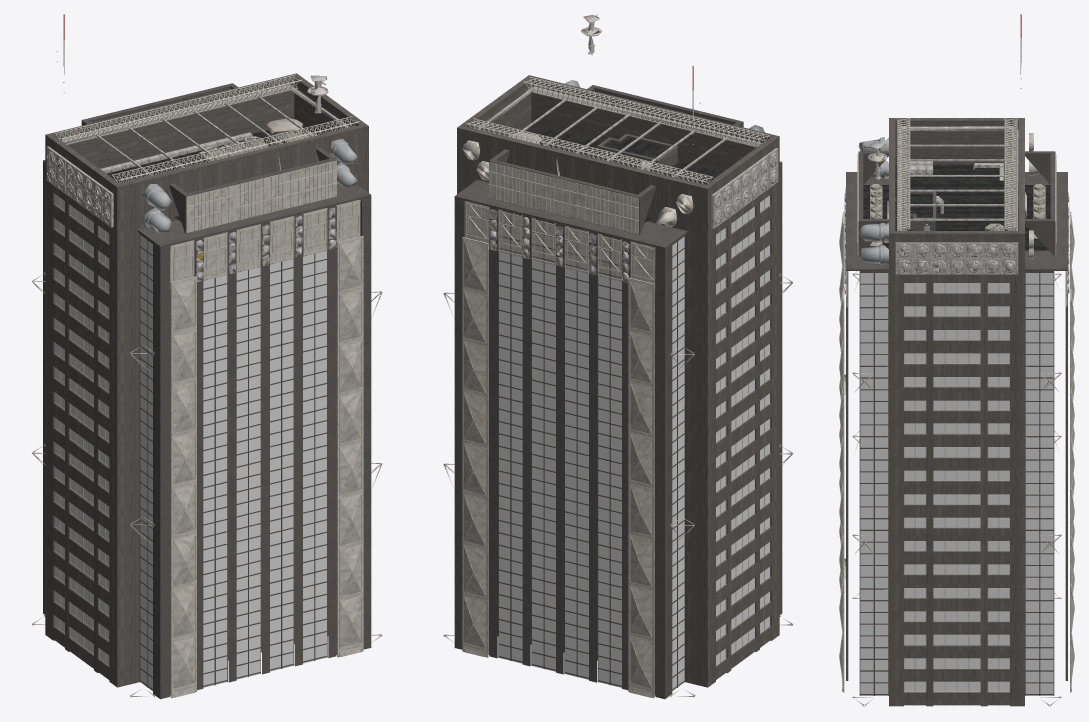
Rendered from KB3D_NEC_BldgLG_B_Main_H124.glb.
3 views of the same model, side by side, from view 1: azimuth 30°, elevation 25°; view 2: azimuth 150°, elevation 25°; view 3: azimuth 270°, elevation 25° (orthographic). The views are drawn at different scales.
Visible parts, largest first — view 1: KB3D_NEC_BldgLG_B_Main; view 2: KB3D_NEC_BldgLG_B_Main; view 3: KB3D_NEC_BldgLG_B_Main.
Part boxes in pixels (<box>): KB3D_NEC_BldgLG_B_Main: <box>32,14,382,699</box>; KB3D_NEC_BldgLG_B_Main: <box>443,14,792,699</box>; KB3D_NEC_BldgLG_B_Main: <box>839,14,1074,706</box>.
Bounding box in the file's own units: 54.56 × 124 × 45.38.
Materials: 12 (10 with a texture image).
